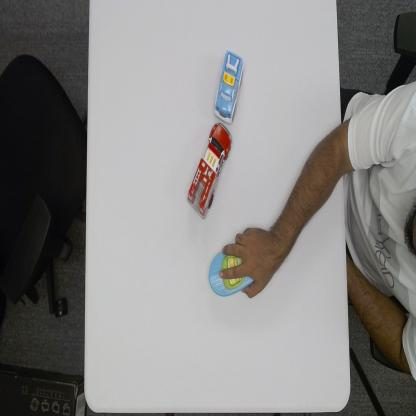Arm: (270, 125, 344, 264)
Boat: (208, 248, 252, 299)
Car: (212, 47, 246, 124)
Firetruck: (186, 119, 233, 221)
Hand: (217, 224, 272, 301)
